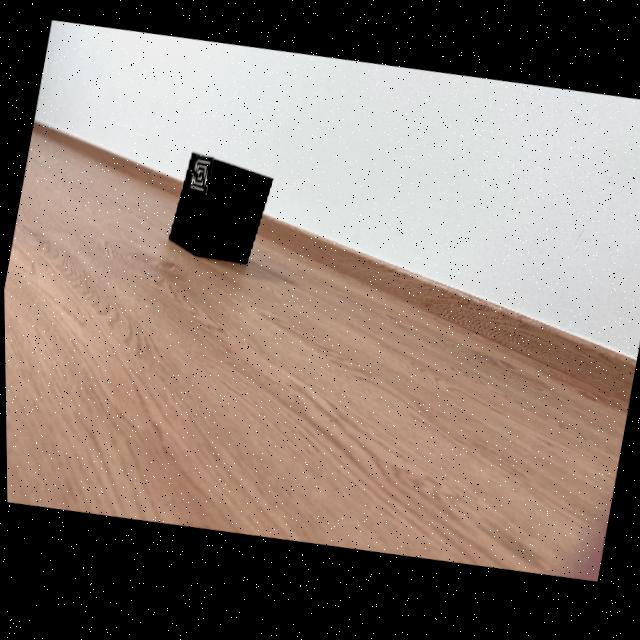BULLSEYE: (187, 158, 214, 200)
